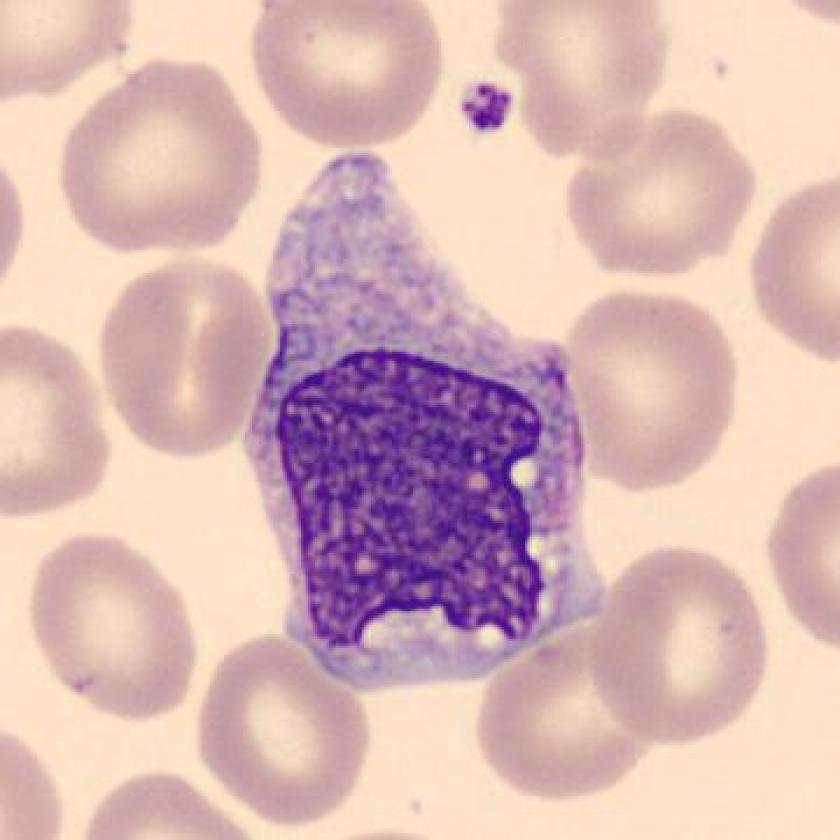monocyte: (232, 131, 626, 712)
